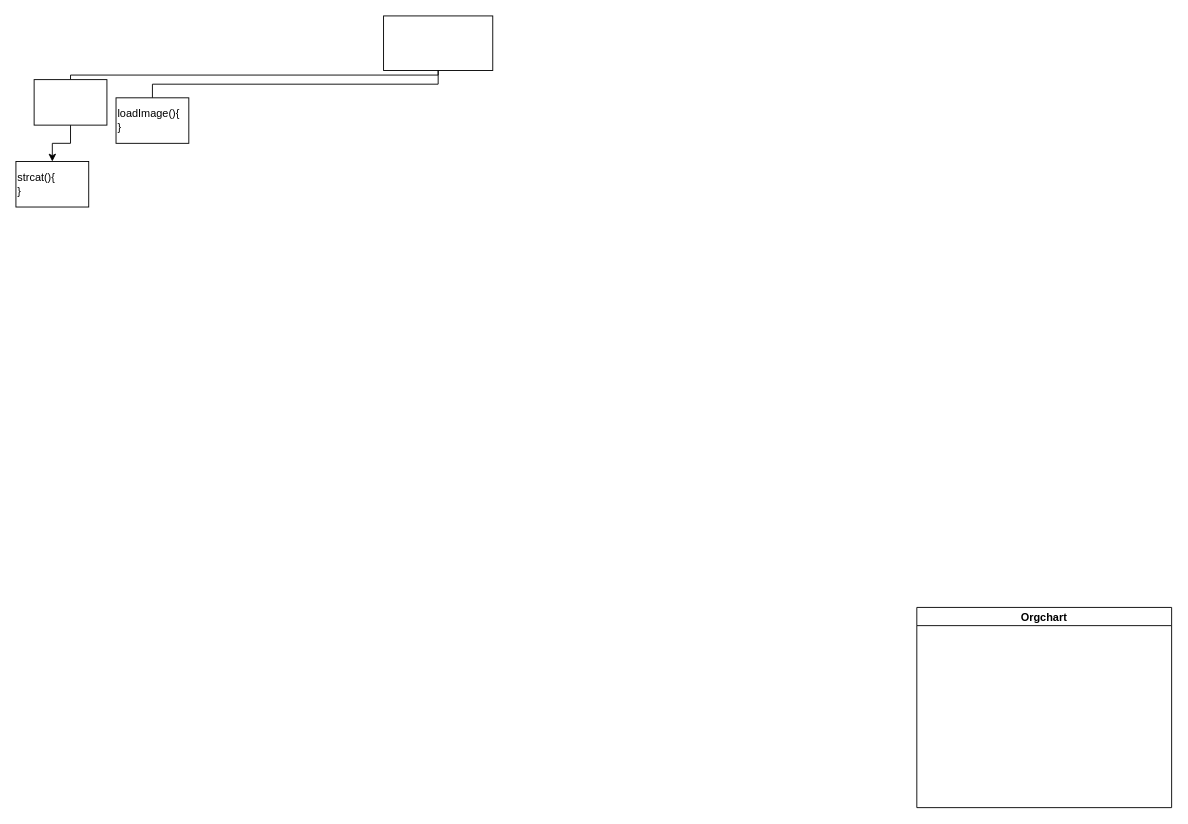
This 1188x824 diagram has some shape labels left out. Here are the shapes that lost their labels. From the top down, the centre of each, then its label:
(438,43): Organization
(70,102): saveImage(){ }
